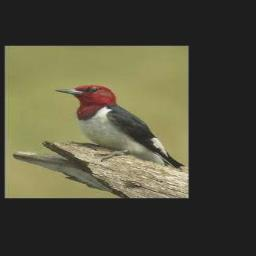Woodpecker: (55, 85, 185, 169)
